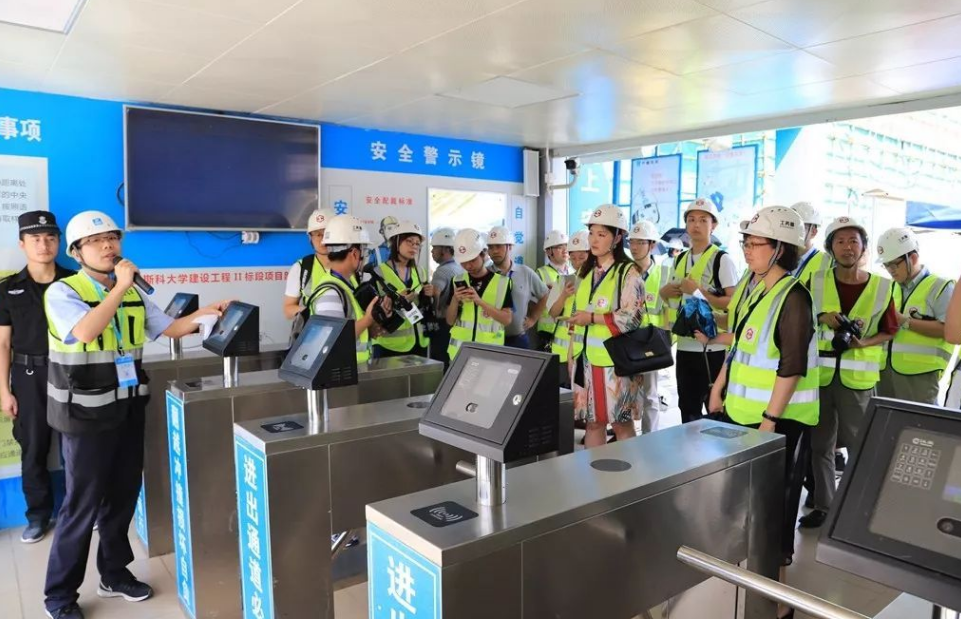head: (16, 208, 62, 265)
ordinary_clothes: (1, 268, 80, 354)
person: (38, 209, 239, 619), (707, 203, 821, 570), (799, 215, 900, 534), (1, 208, 79, 545), (570, 202, 650, 452), (658, 197, 739, 427), (875, 227, 958, 407), (441, 225, 515, 365), (308, 211, 373, 364), (365, 217, 434, 358)
reflective_vest: (40, 269, 153, 433), (721, 271, 820, 428), (809, 270, 899, 392), (880, 271, 959, 376), (570, 259, 635, 367), (307, 270, 372, 365), (445, 271, 513, 361), (668, 242, 731, 338), (369, 261, 431, 353)
safety_helmet: (738, 203, 808, 277), (61, 207, 125, 277), (319, 212, 373, 277), (875, 224, 922, 287), (821, 215, 870, 270), (582, 203, 629, 259), (682, 196, 721, 245), (451, 228, 489, 277), (386, 219, 426, 263), (624, 219, 661, 262), (485, 224, 517, 269), (305, 206, 334, 255), (564, 229, 590, 272), (541, 228, 570, 265), (429, 227, 456, 265)
